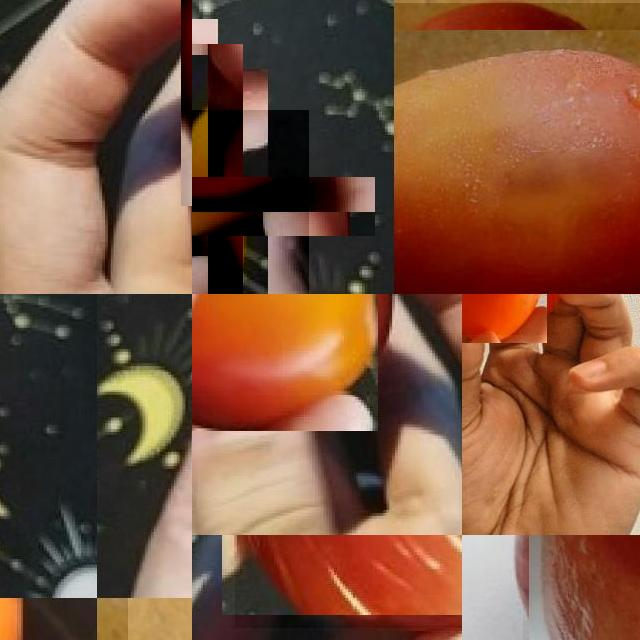Fresh Tomato: (394, 3, 640, 294), (192, 110, 309, 294)
